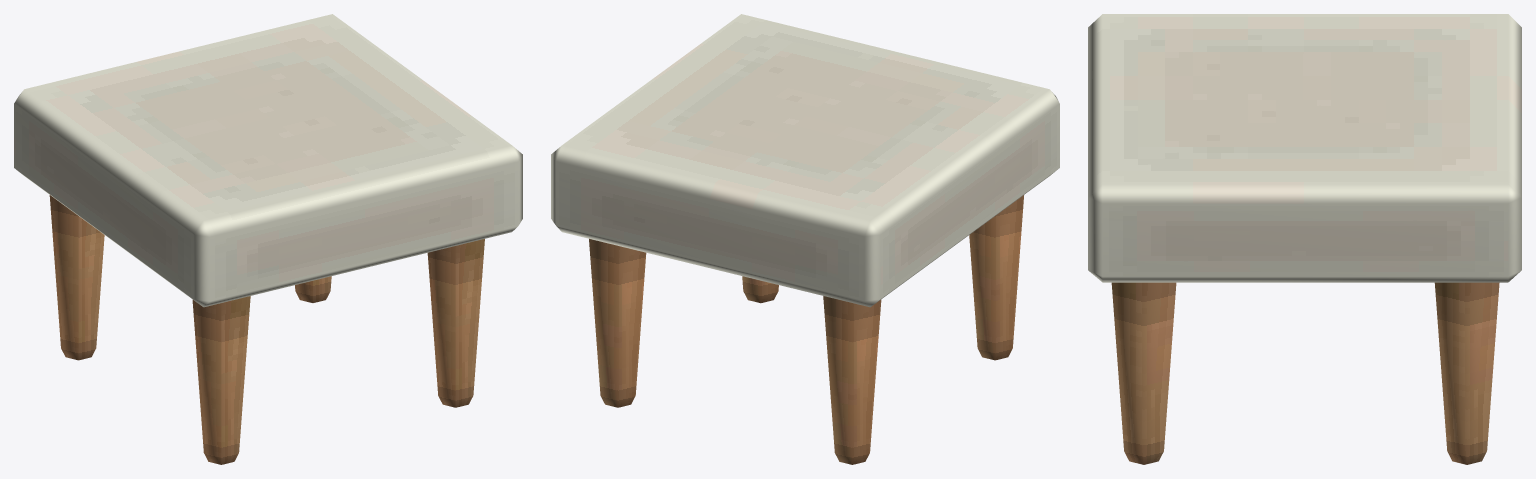
Rendered from rmk_smp_tableS.dae.
3 renders of one model, left to right at view 1: azimuth 30°, elevation 25°; view 2: azimuth 150°, elevation 25°; view 3: azimuth 270°, elevation 25°, orthographic. The views are drawn at different scales.
Parts seen in each view (by area): view 1: rmk_smp_tableS; view 2: rmk_smp_tableS; view 3: rmk_smp_tableS.
Boxes of the visible parts, x1,y1,x2,y2 form: rmk_smp_tableS: (14,14,522,464); rmk_smp_tableS: (551,14,1059,464); rmk_smp_tableS: (1088,14,1521,464).
Size of the model in its own units: 27.99 by 21.13 by 28.21.
2 materials, 2 textured.
